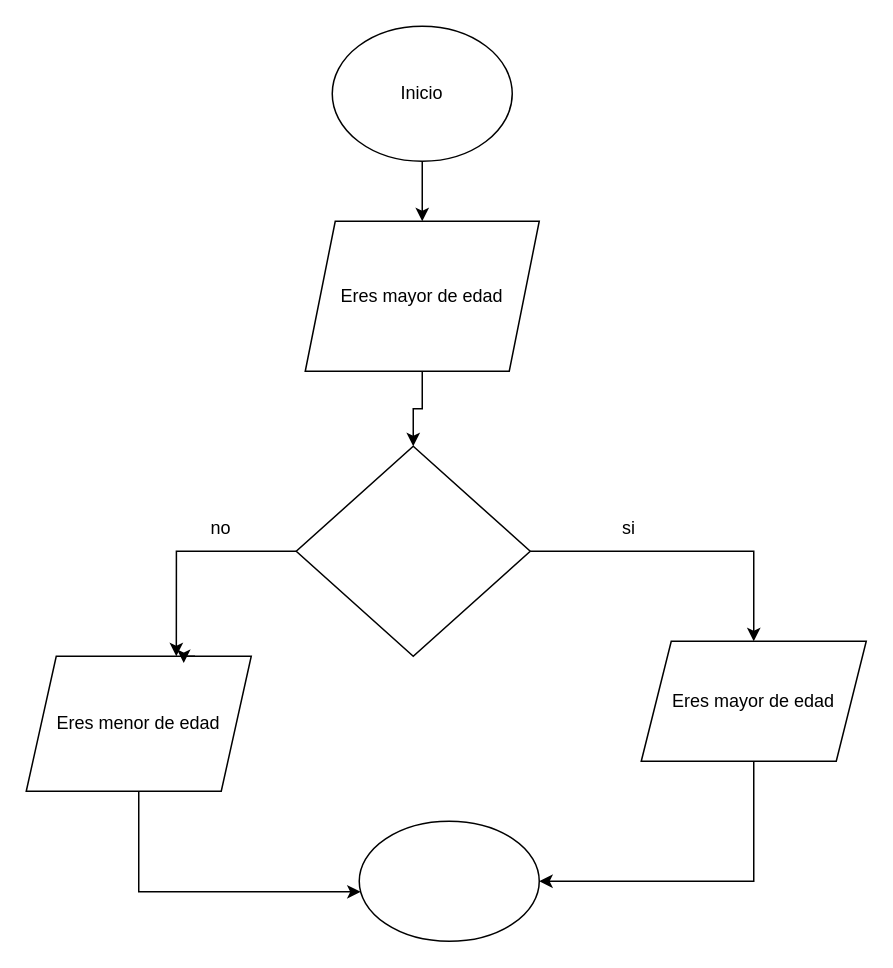
The diagram is 893 pixels wide and 968 high, and some of its shapes have lost their labels. Each missing label, with the centre of its shape:
Fin: the point at 448,880
Si edad>=18: the point at 412,550
